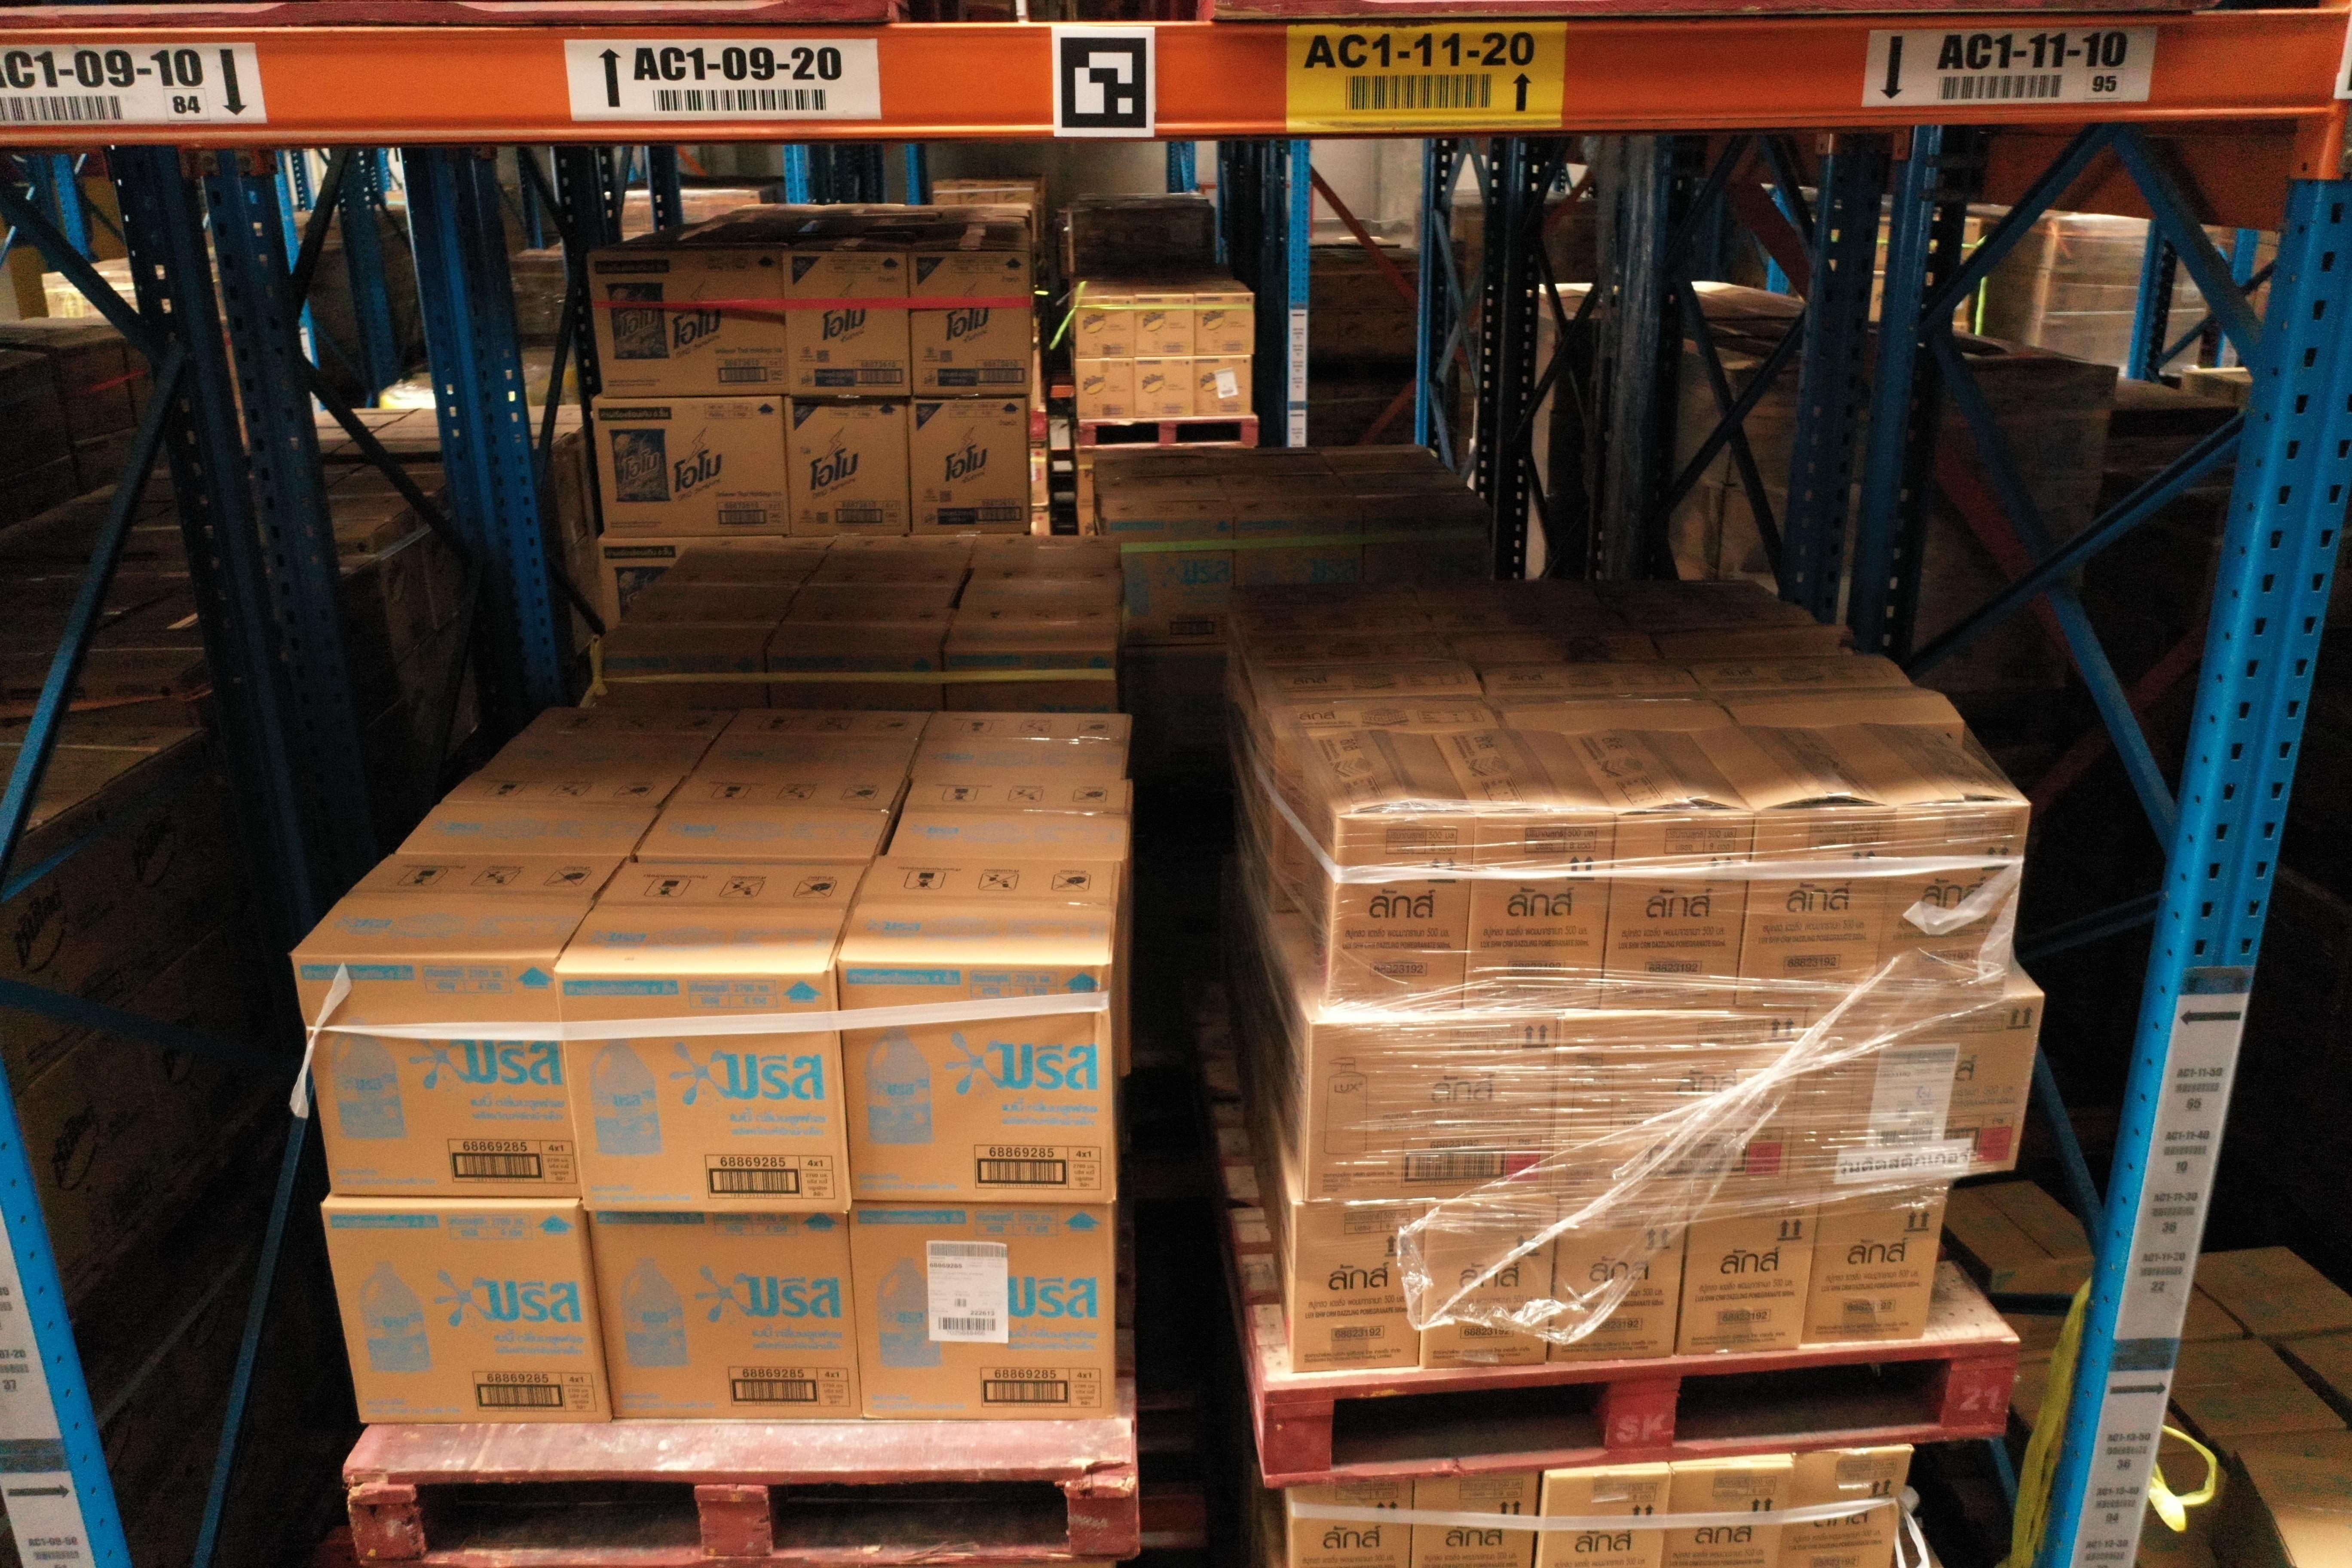-: (292, 954, 581, 1200), (558, 969, 849, 1213), (833, 959, 1115, 1204), (317, 1207, 609, 1421), (847, 1200, 1113, 1421), (588, 1213, 864, 1421), (1787, 996, 2046, 1193), (1554, 1010, 1806, 1200), (1307, 1018, 1557, 1206), (1463, 814, 1619, 1020), (1739, 808, 1895, 1011), (1599, 814, 1753, 1011), (1328, 814, 1473, 1018), (1881, 801, 2028, 997), (1676, 1190, 1822, 1356), (1552, 1197, 1694, 1363), (1424, 1200, 1561, 1372), (1808, 1179, 1949, 1344), (1293, 1199, 1426, 1374), (1780, 1445, 1914, 1568), (1666, 1463, 1790, 1568), (1535, 1473, 1671, 1568), (1410, 1470, 1542, 1568), (1290, 1479, 1416, 1568)
2: (586, 248, 791, 402), (591, 394, 791, 544), (784, 252, 913, 395), (908, 252, 1031, 402), (784, 395, 908, 541), (912, 395, 1031, 539)
